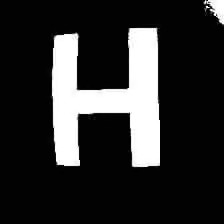LTR_H: (38, 14, 170, 174)
